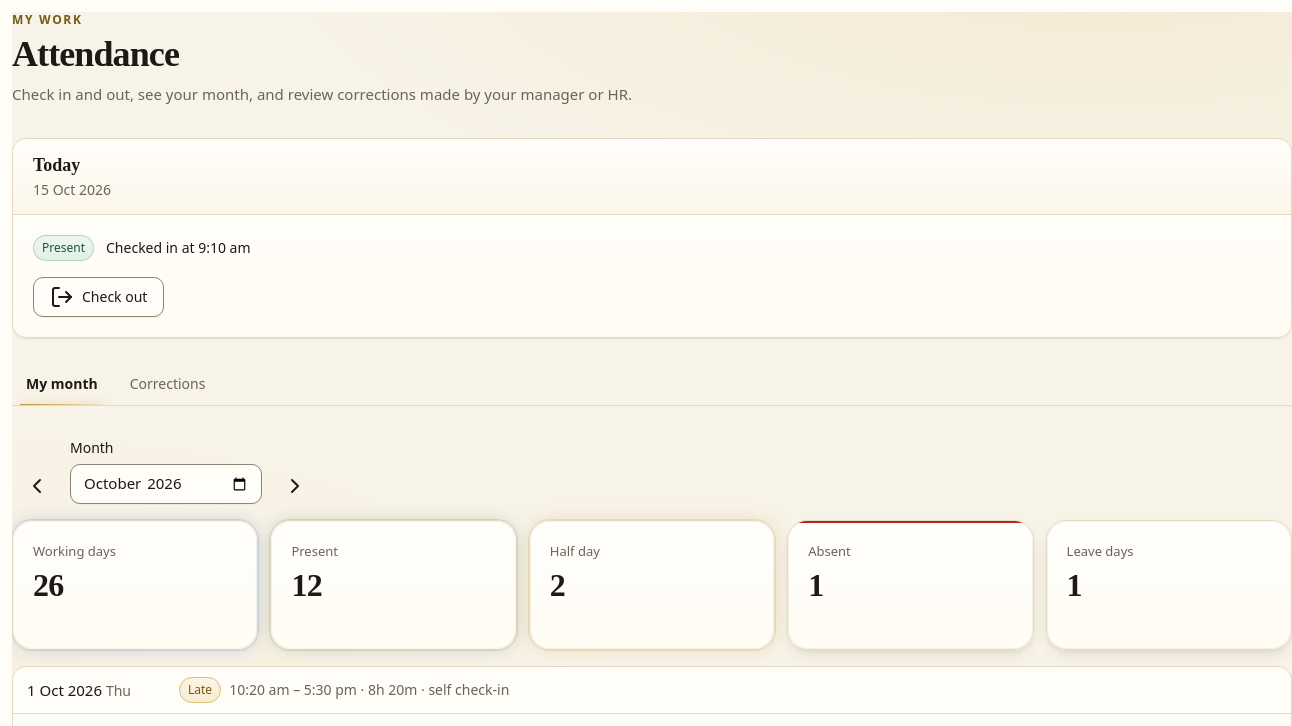
Test: AttendancePage › check-out flags a short day for review
Click the button "Check out". click: click(99, 297)
box: [33,277,164,317]
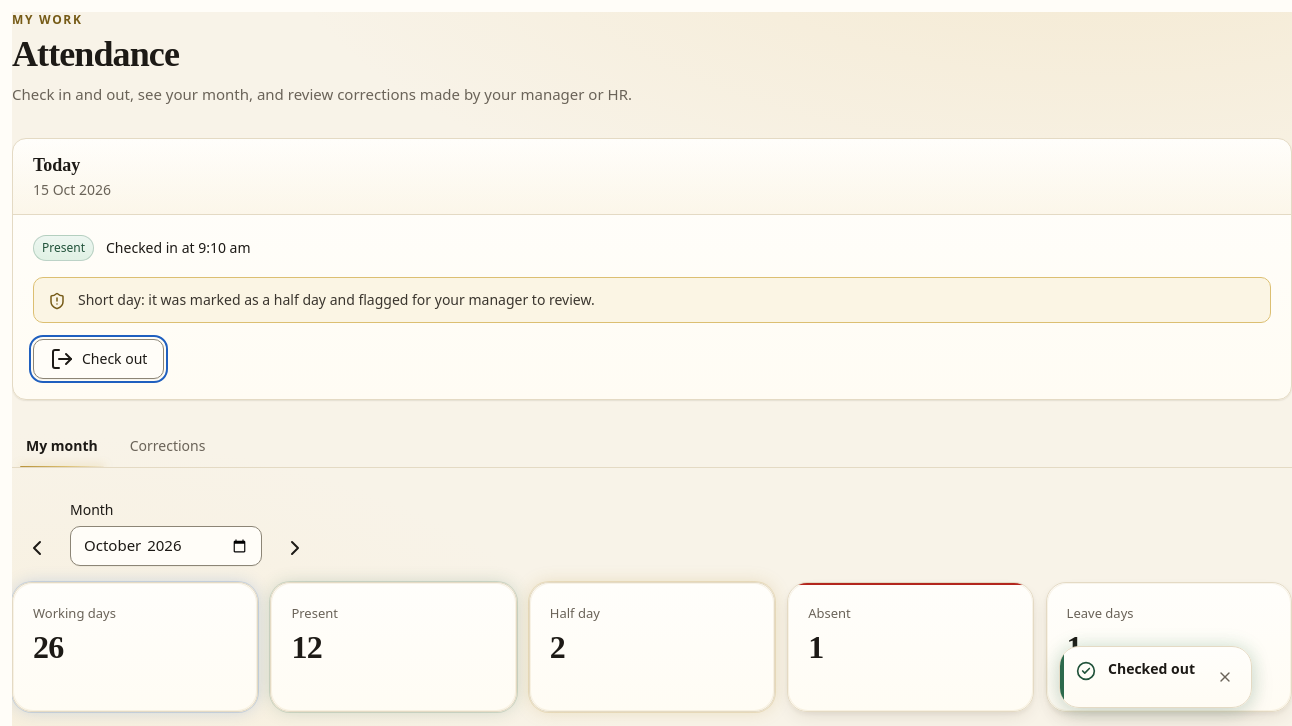
Expected: the text "Short day: it was marked as a half day" is shown, [78,290,595,309]
